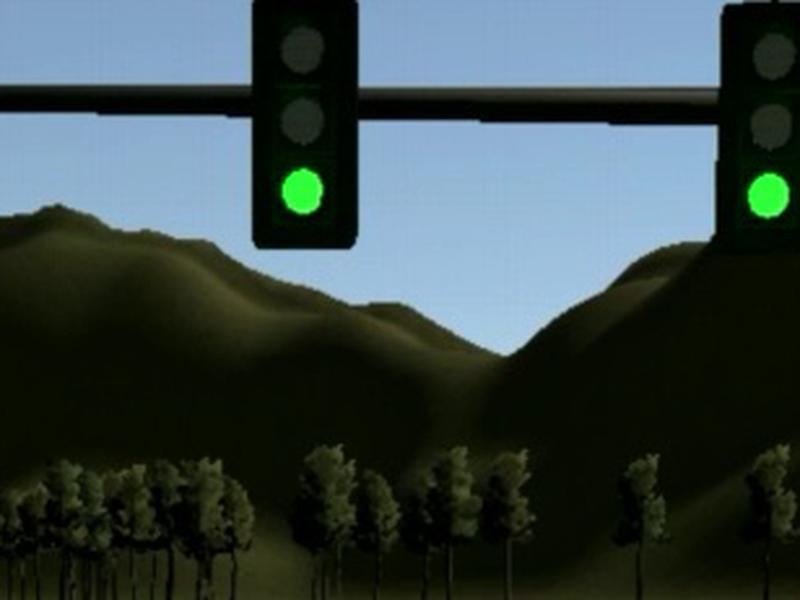Green: (250, 1, 360, 250), (712, 1, 800, 238)
